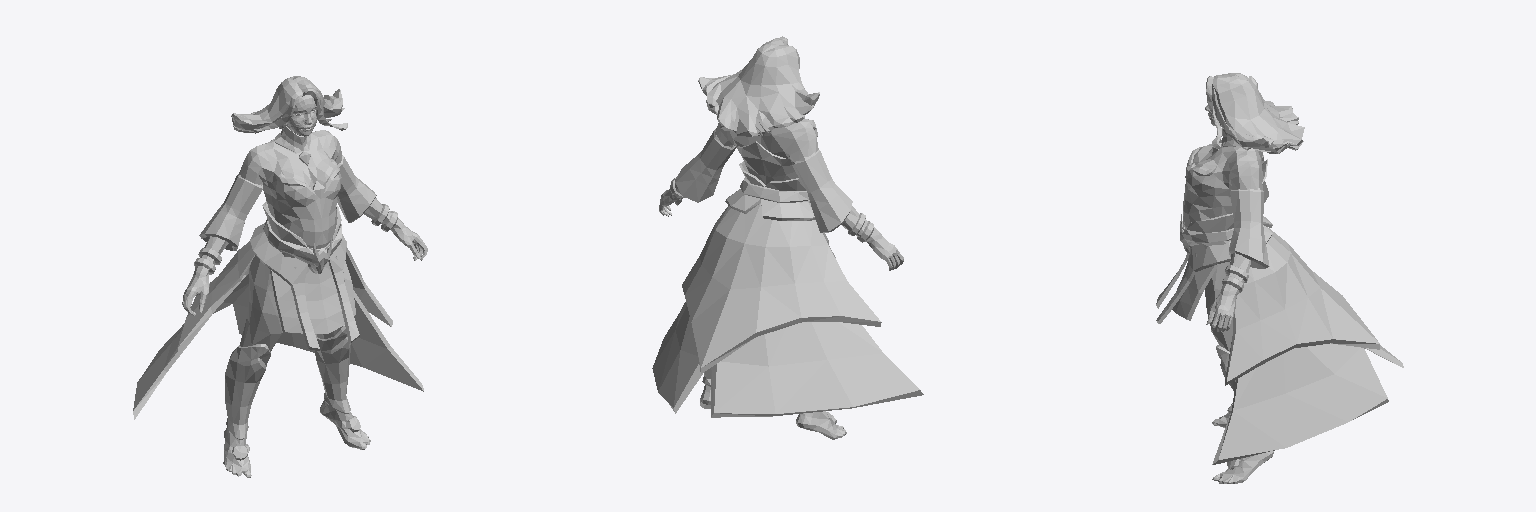
The model's file is lina_statue_000004.obj.
3 views of the same model, side by side, from view 1: azimuth 30°, elevation 25°; view 2: azimuth 150°, elevation 25°; view 3: azimuth 270°, elevation 25° (orthographic).
Parts seen in each view (by area): view 1: lina_body.001_lina_body; view 2: lina_body.001_lina_body; view 3: lina_body.001_lina_body.
Part boxes in pixels (bbox=[...]): lina_body.001_lina_body: bbox=[133, 76, 427, 477]; lina_body.001_lina_body: bbox=[652, 36, 923, 439]; lina_body.001_lina_body: bbox=[1156, 73, 1403, 483].
Size of the model in its own units: 137 by 179 by 106.